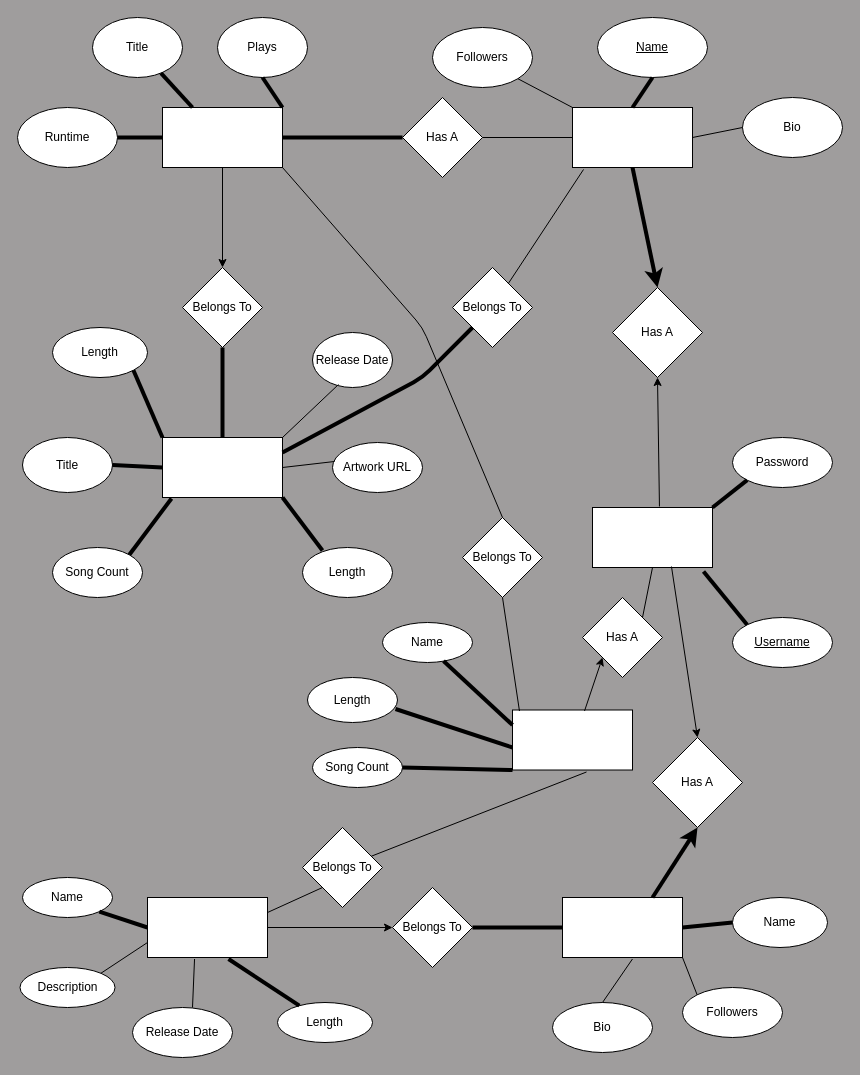
The diagram is 860 pixels wide and 1075 high, and some of its shapes have lost their labels. The box of each missing label's shape, as (x1, y1, x2, y2) in pixels:
Album: (162, 436, 282, 498)
Artist: (572, 106, 692, 168)
Episodes: (146, 896, 268, 958)
Playlist: (512, 709, 632, 770)
Podcasts: (562, 896, 682, 958)
Song: (162, 106, 282, 168)
User: (592, 506, 712, 568)
